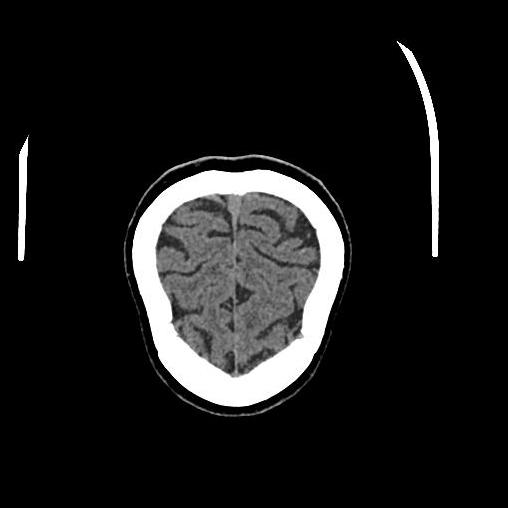Normal_Brain: (126, 154, 352, 409)
